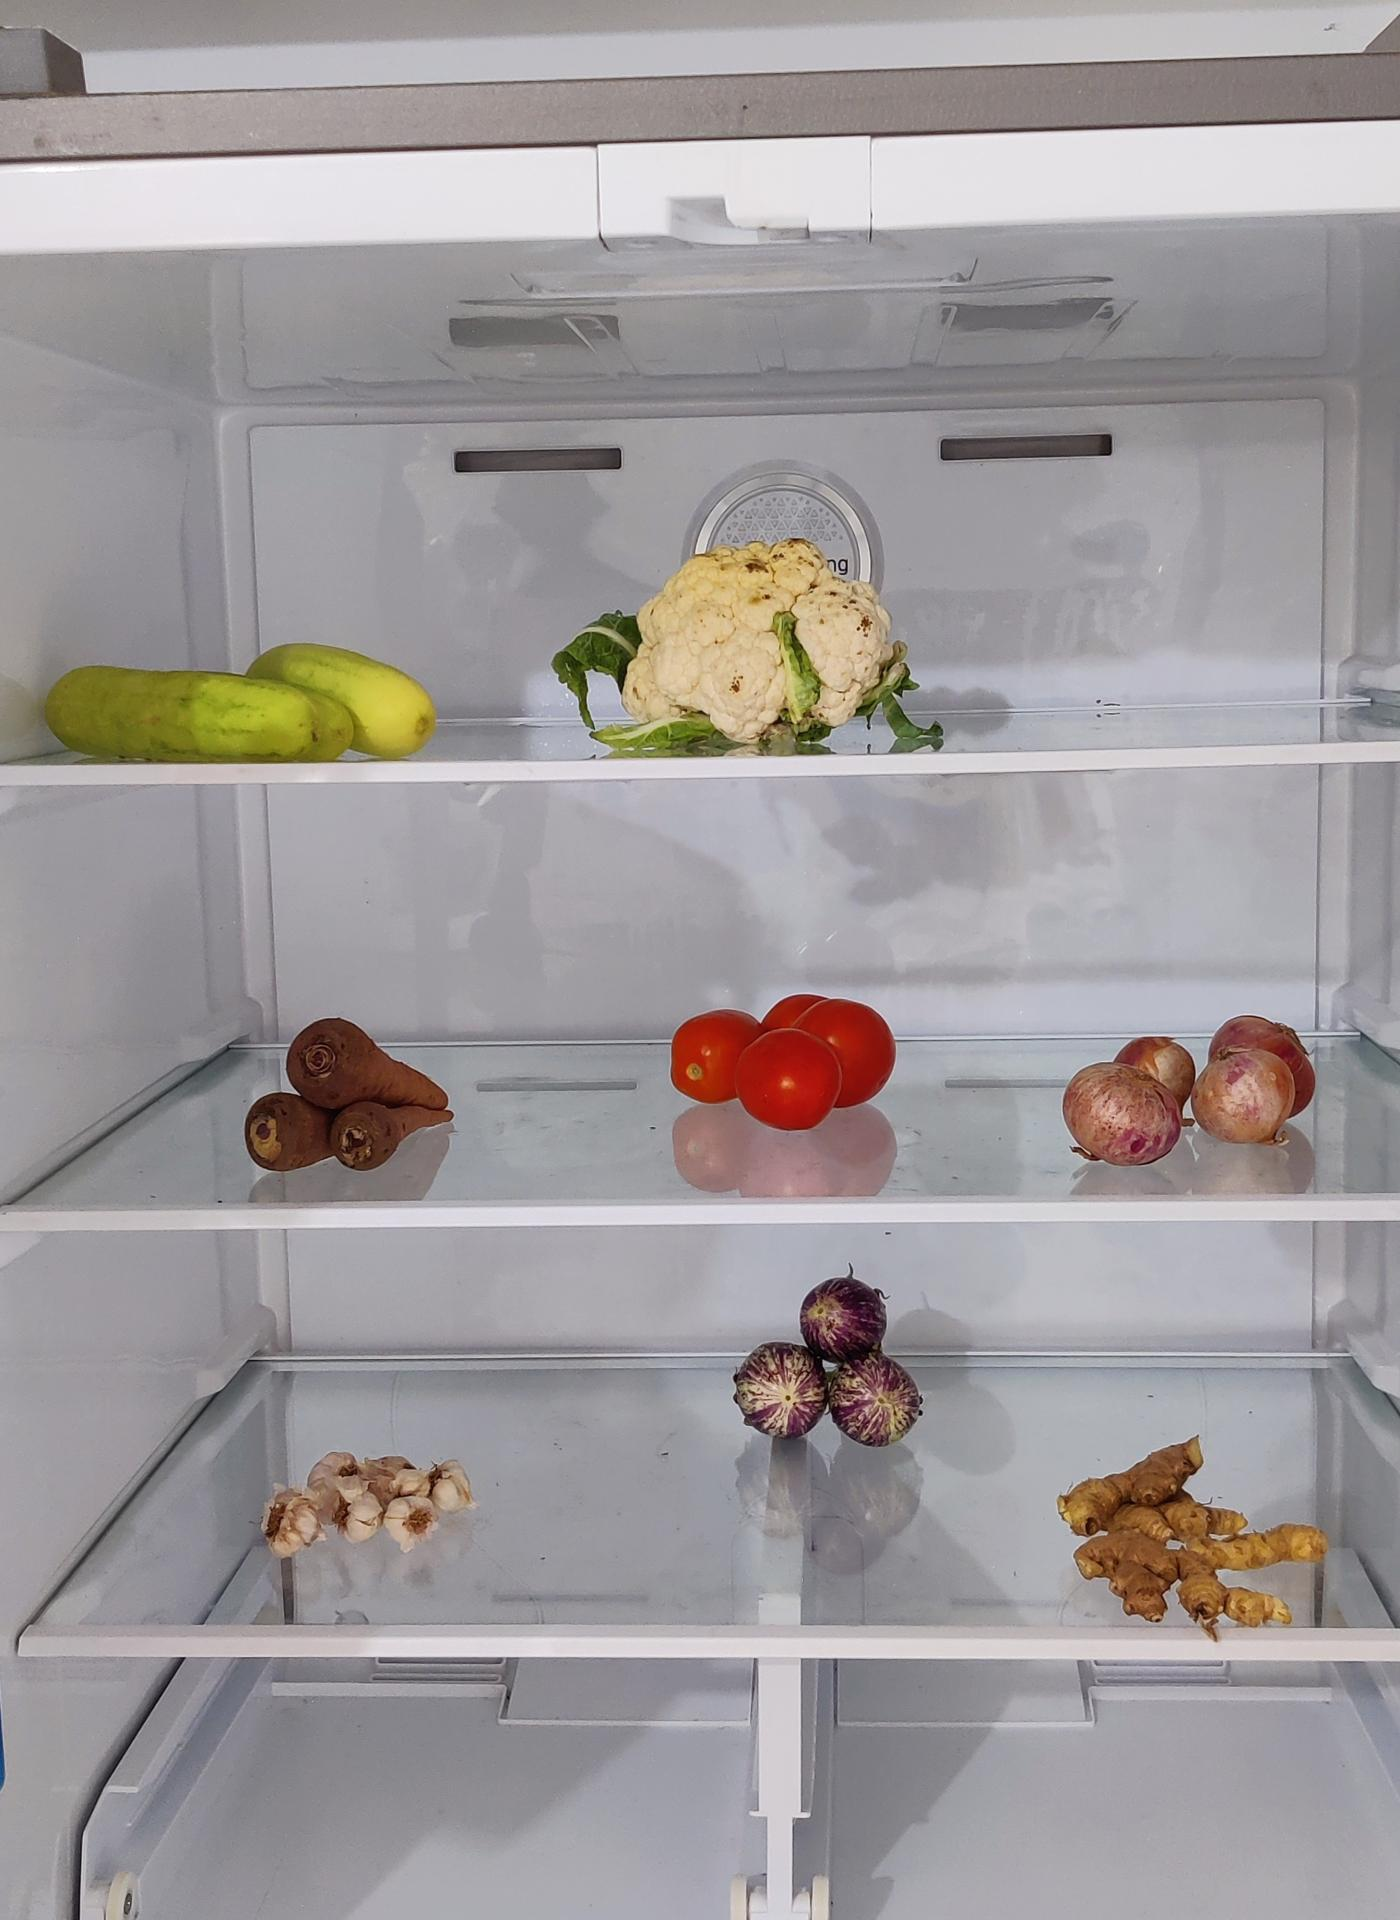brinjal: (723, 1272, 927, 1462)
carrots: (246, 1015, 456, 1175)
cauliflower: (616, 535, 911, 739)
cucumber: (48, 651, 444, 778)
garlic: (258, 1446, 476, 1558)
ginger: (1066, 1446, 1331, 1637)
onion: (1066, 1011, 1325, 1163)
tomato: (665, 990, 895, 1133)
